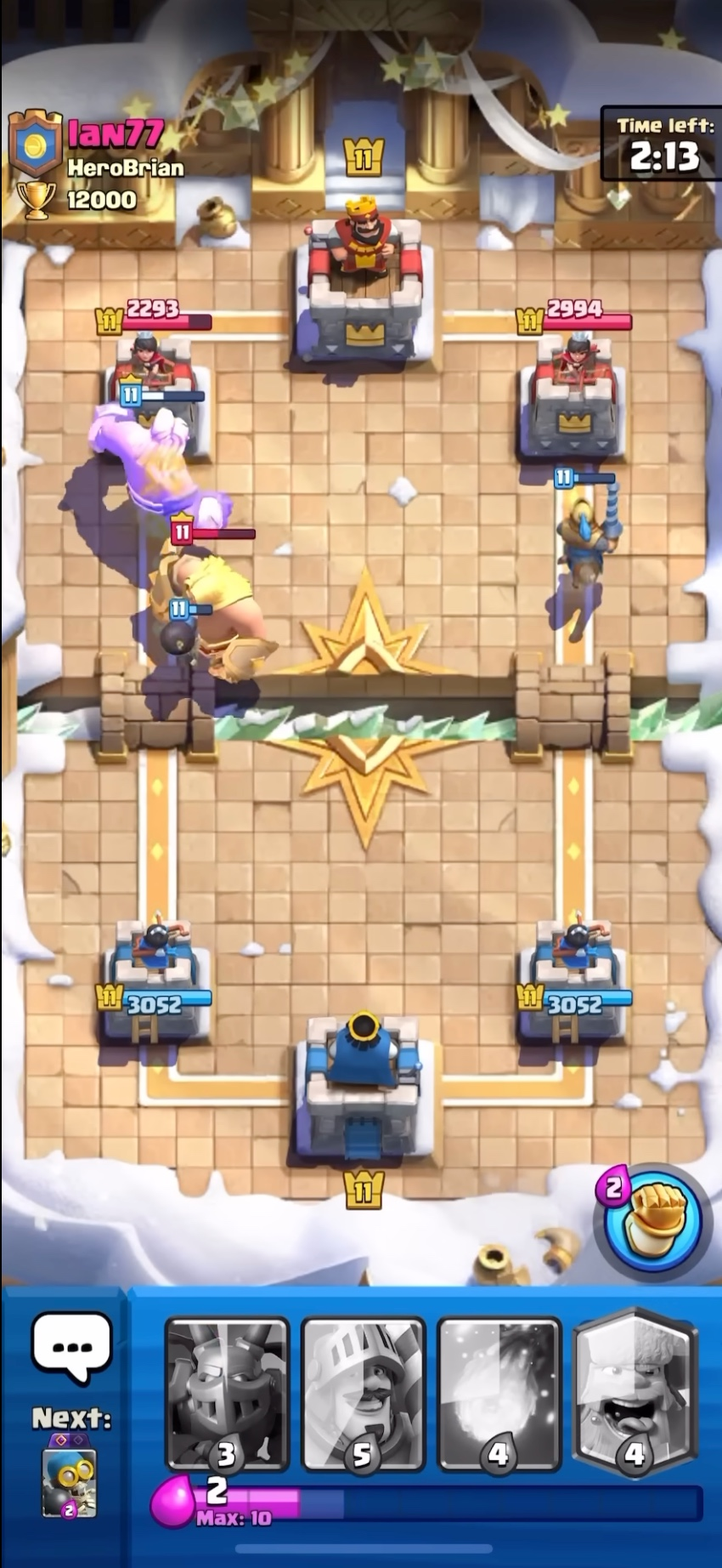hero-giant: (143, 510, 275, 687)
